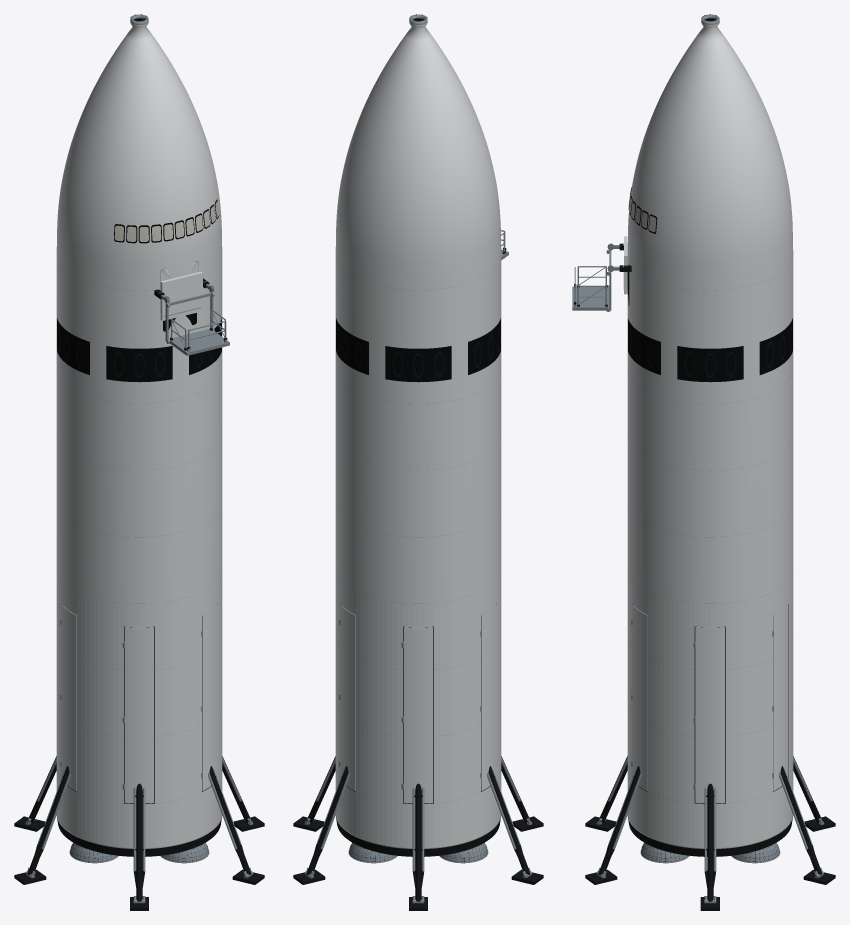
Rendered from hls.glb.
3 renders of one model, left to right at view 1: azimuth 30°, elevation 25°; view 2: azimuth 150°, elevation 25°; view 3: azimuth 270°, elevation 25°, orthographic.
Parts seen in each view (by area): view 1: hull, doorMesh_4, thrusters, doorMesh_3, doorMesh_5, hoistHousing, legMesh_4, engineBay, elevatorBasket, legMesh_3, legMesh_5; view 2: hull, doorMesh_2, thrusters, doorMesh_1, doorMesh_3, legMesh_2, engineBay, legMesh_1, legMesh_3; view 3: hull, doorMesh_0, thrusters, doorMesh_5, doorMesh_1, legMesh_0, engineBay, legMesh_5, legMesh_1, elevatorBasket.
Part boxes in pixels (x1,y1,x2,y2): hull: [56, 14, 222, 856]; doorMesh_4: [124, 627, 154, 803]; thrusters: [57, 318, 221, 382]; doorMesh_3: [61, 604, 76, 790]; doorMesh_5: [202, 604, 217, 790]; hoistHousing: [154, 271, 209, 320]; legMesh_4: [133, 783, 145, 902]; engineBay: [69, 842, 209, 863]; elevatorBasket: [169, 328, 229, 355]; legMesh_3: [25, 766, 70, 878]; legMesh_5: [208, 766, 253, 878]; hull: [335, 14, 501, 856]; doorMesh_2: [403, 627, 433, 803]; thrusters: [336, 318, 500, 382]; doorMesh_1: [340, 604, 355, 790]; doorMesh_3: [481, 604, 496, 790]; legMesh_2: [412, 783, 424, 902]; engineBay: [348, 842, 488, 863]; legMesh_1: [304, 766, 349, 878]; legMesh_3: [487, 766, 532, 878]; hull: [627, 14, 793, 856]; doorMesh_0: [695, 627, 725, 803]; thrusters: [628, 318, 792, 382]; doorMesh_5: [632, 604, 647, 790]; doorMesh_1: [773, 605, 788, 790]; legMesh_0: [704, 783, 716, 903]; engineBay: [640, 842, 780, 863]; legMesh_5: [596, 766, 641, 878]; legMesh_1: [779, 766, 824, 878]; elevatorBasket: [572, 284, 609, 310].
Bounding box in the file's own units: 15.1 × 50.04 × 14.3.
1 material, 1 textured.
